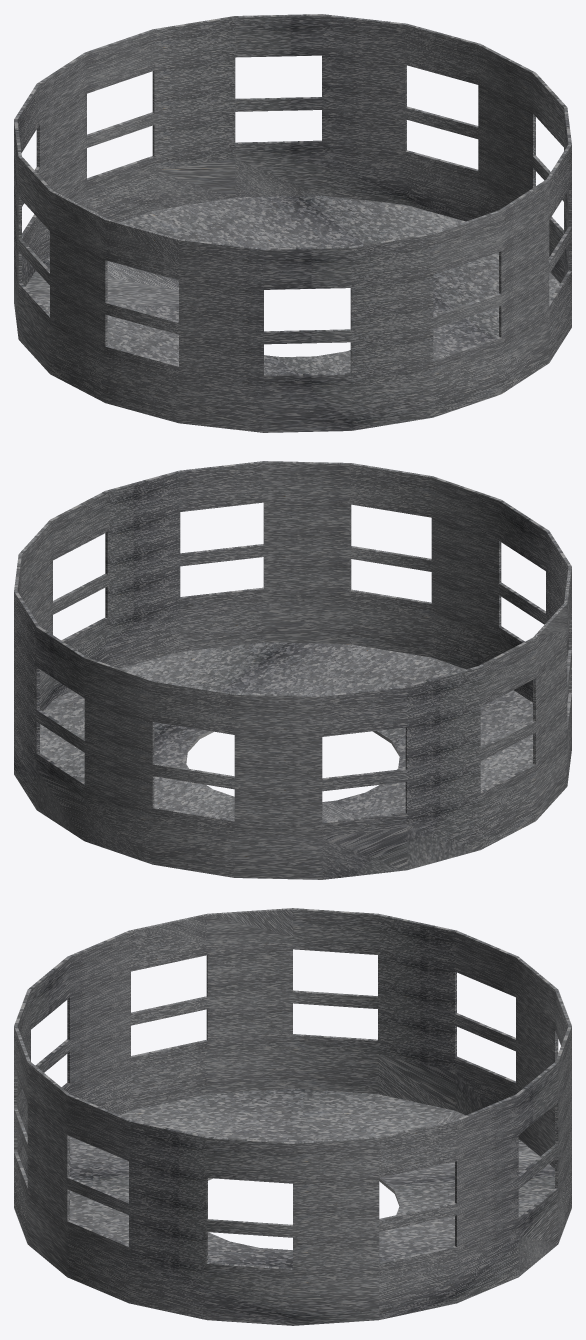
Rendered from room.fbx.
3 renders of one model, top to bottom at view 1: azimuth 30°, elevation 25°; view 2: azimuth 150°, elevation 25°; view 3: azimuth 270°, elevation 25°, orthographic.
Parts seen in each view (by area): view 1: pCylinder3; view 2: pCylinder3; view 3: pCylinder3.
Boxes of the visible parts, box(x1,y1,x2,y2) form: pCylinder3: box(14, 14, 571, 432); pCylinder3: box(14, 461, 571, 879); pCylinder3: box(14, 908, 571, 1325).
Size of the model in its own units: 49.63 by 17.87 by 49.63.
Materials: 2 (1 with a texture image).
